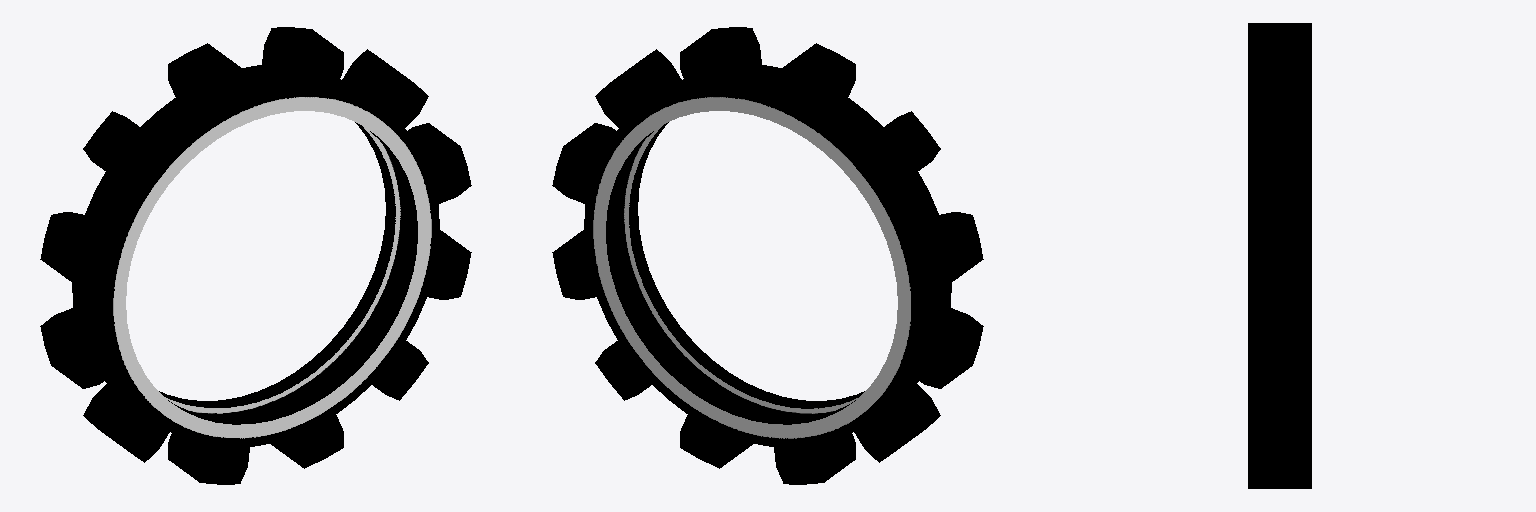
3 views of the same model, side by side, from view 1: azimuth 30°, elevation 25°; view 2: azimuth 150°, elevation 25°; view 3: azimuth 270°, elevation 25° (orthographic).
Parts seen in each view (by area): view 1: Gear_L; view 2: Gear_L; view 3: Gear_L.
Part boxes in pixels (bbox=[...]): Gear_L: bbox=[40, 27, 471, 484]; Gear_L: bbox=[552, 27, 983, 484]; Gear_L: bbox=[1248, 23, 1311, 488].
Size of the model in its own units: 6.42 by 6.42 by 0.9.
1 materials, 1 textured.